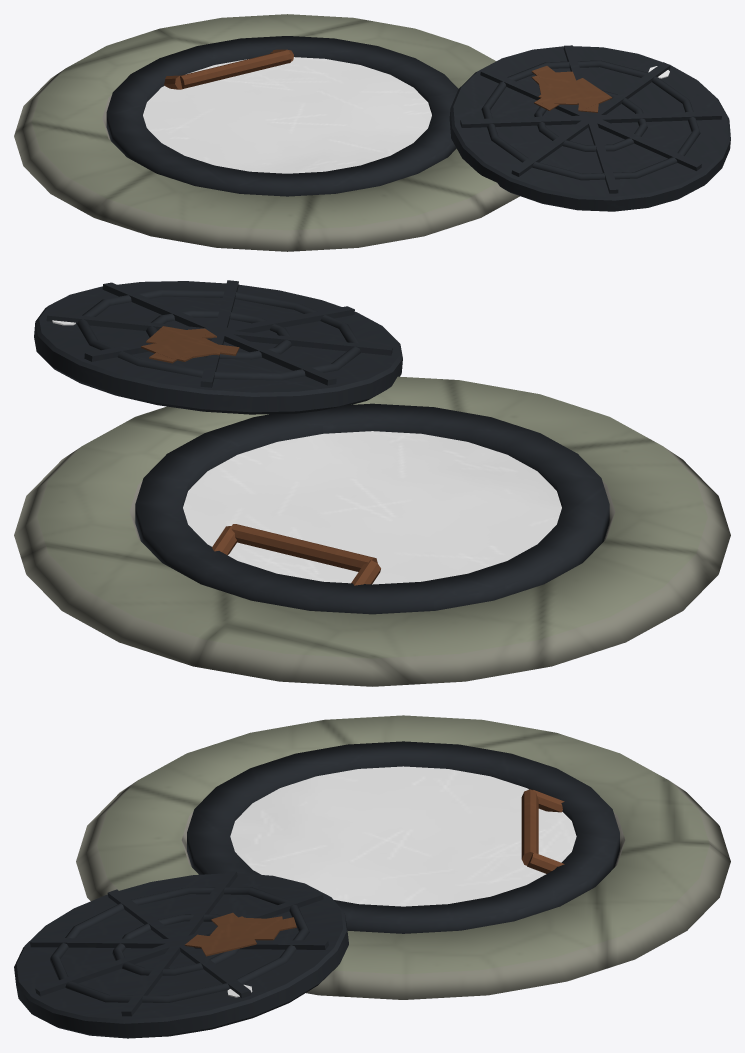
Rendered from manhole_cover_open.glb.
3 renders of one model, top to bottom at view 1: azimuth 30°, elevation 25°; view 2: azimuth 150°, elevation 25°; view 3: azimuth 270°, elevation 25°, orthographic. The views are drawn at different scales.
Parts seen in each view (by area): view 1: manhole_cover_open; view 2: manhole_cover_open; view 3: manhole_cover_open.
Part boxes in pixels (x1=…): manhole_cover_open: x1=14, y1=14, x2=730, y2=251; manhole_cover_open: x1=14, y1=280, x2=730, y2=686; manhole_cover_open: x1=14, y1=715, x2=730, y2=1038.
Bounding box in the file's own units: 1.49 × 0.1428 × 1.36.
Materials: 5 (5 with a texture image).
